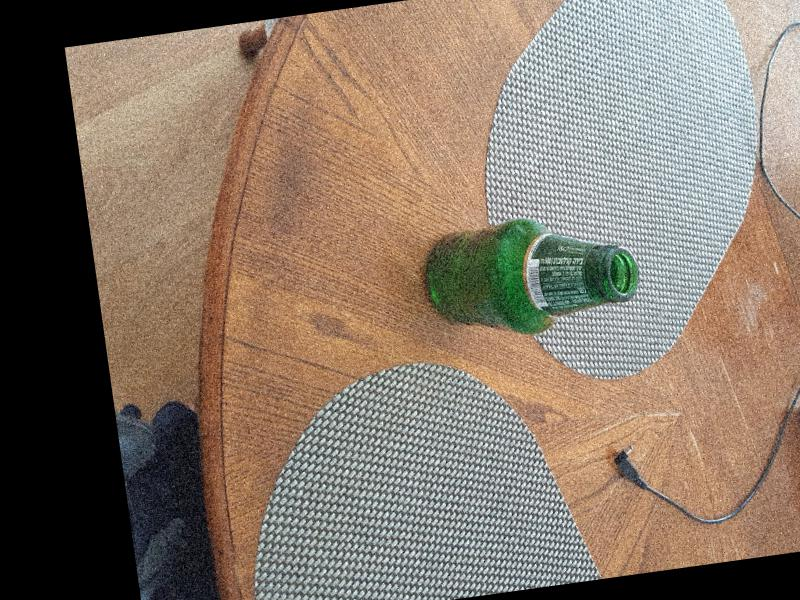Beer: (418, 204, 645, 343)
